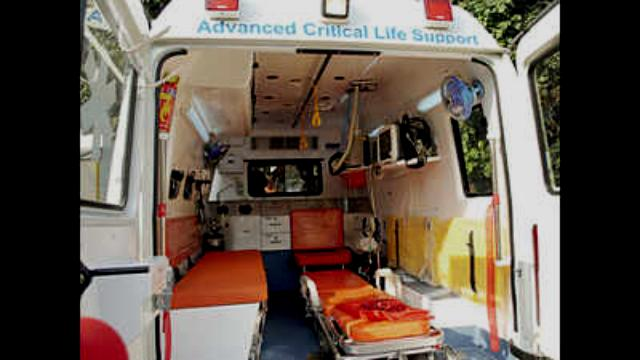ambulance: (79, 0, 560, 358)
